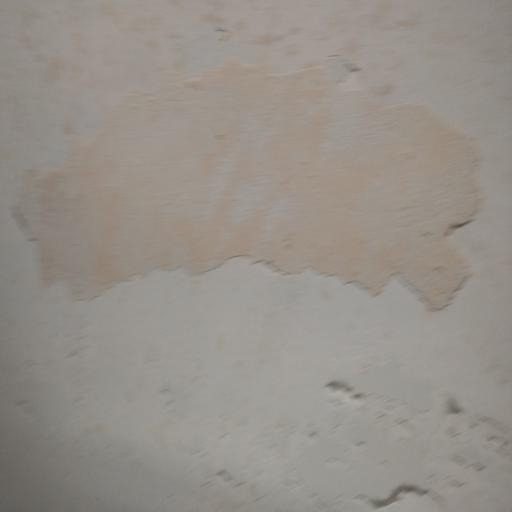peeling: (16, 18, 486, 330)
